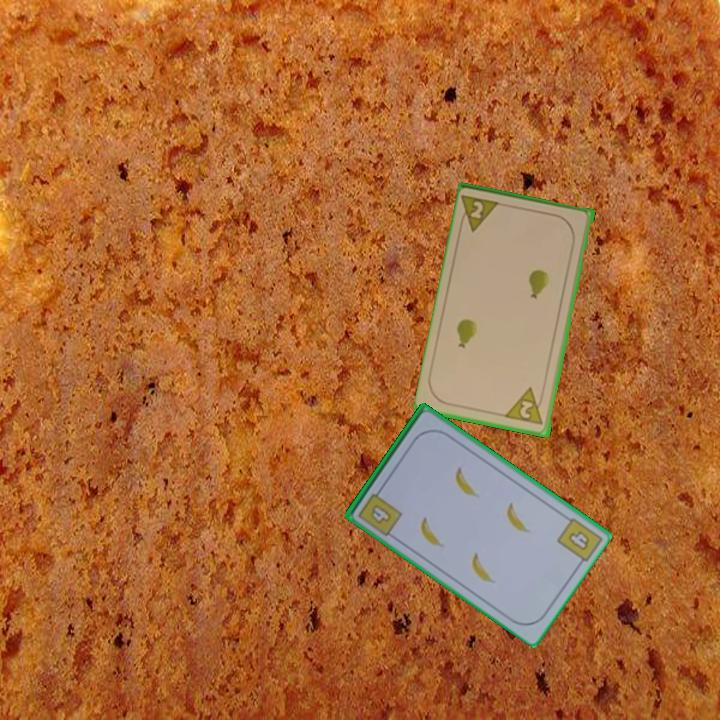2p: (456, 192, 504, 235), (503, 384, 546, 428)
4b: (354, 483, 405, 539), (565, 527, 593, 554)
